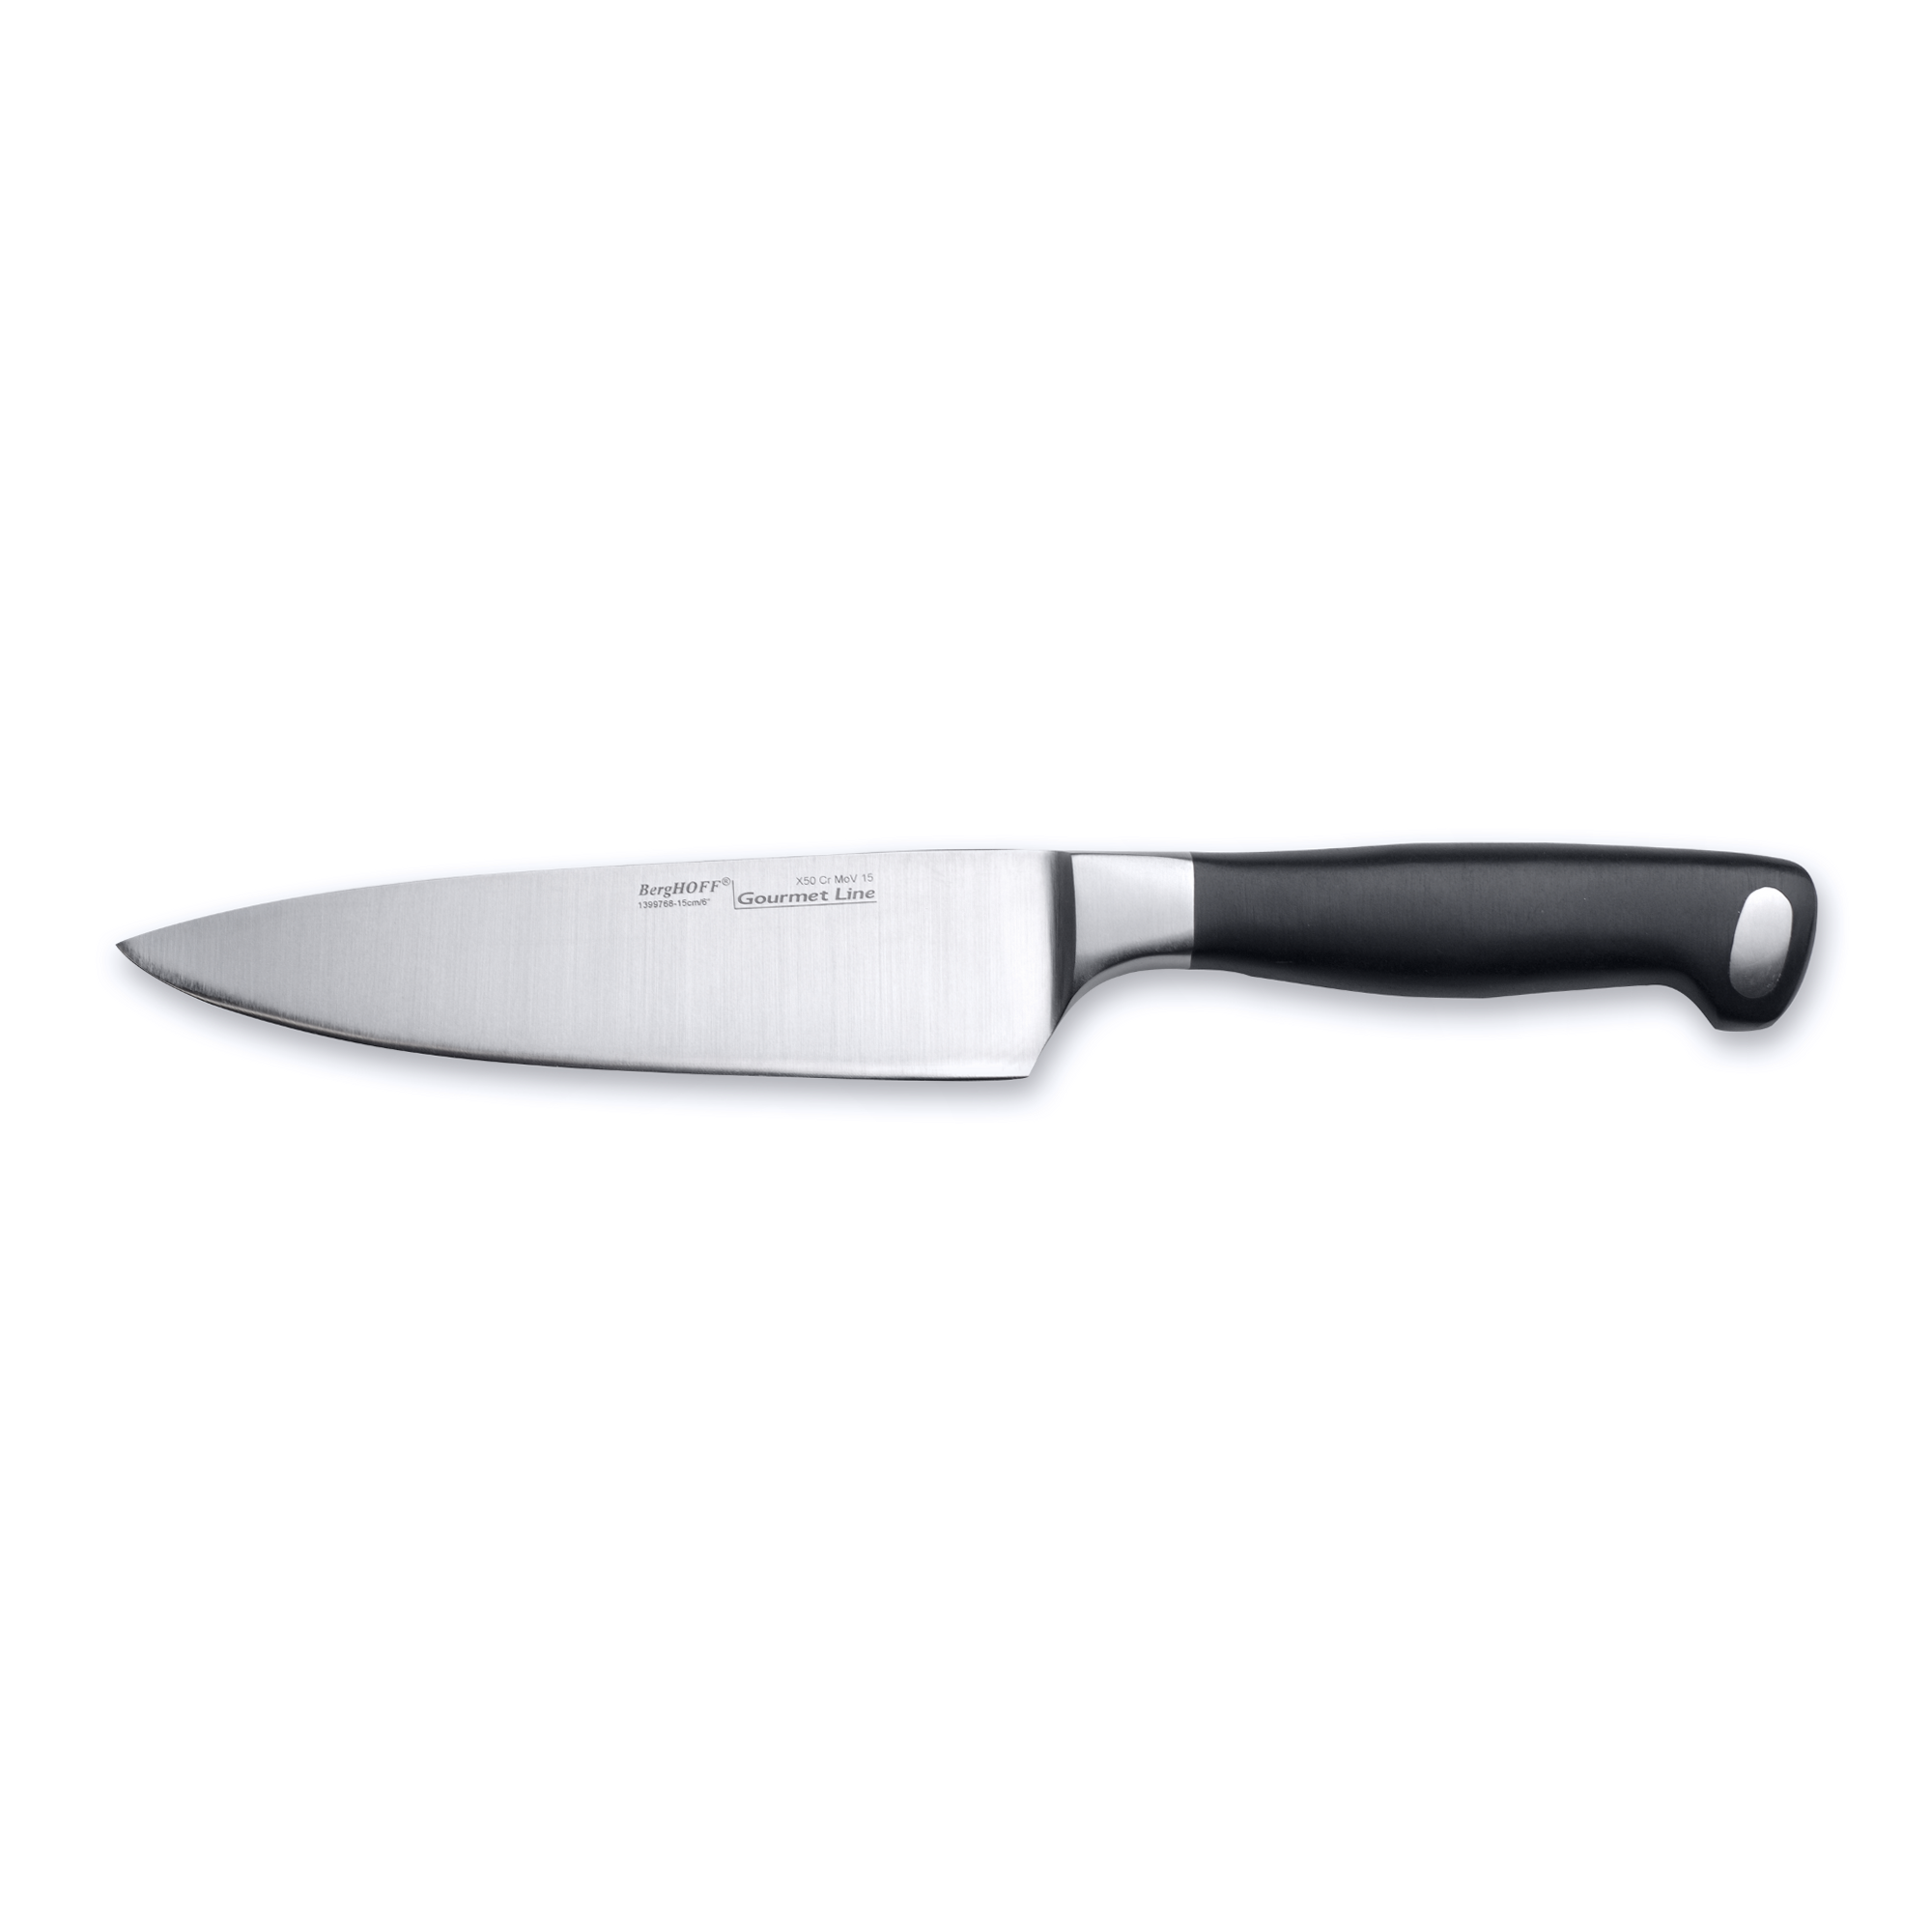knife: (124, 846, 1810, 1090)
